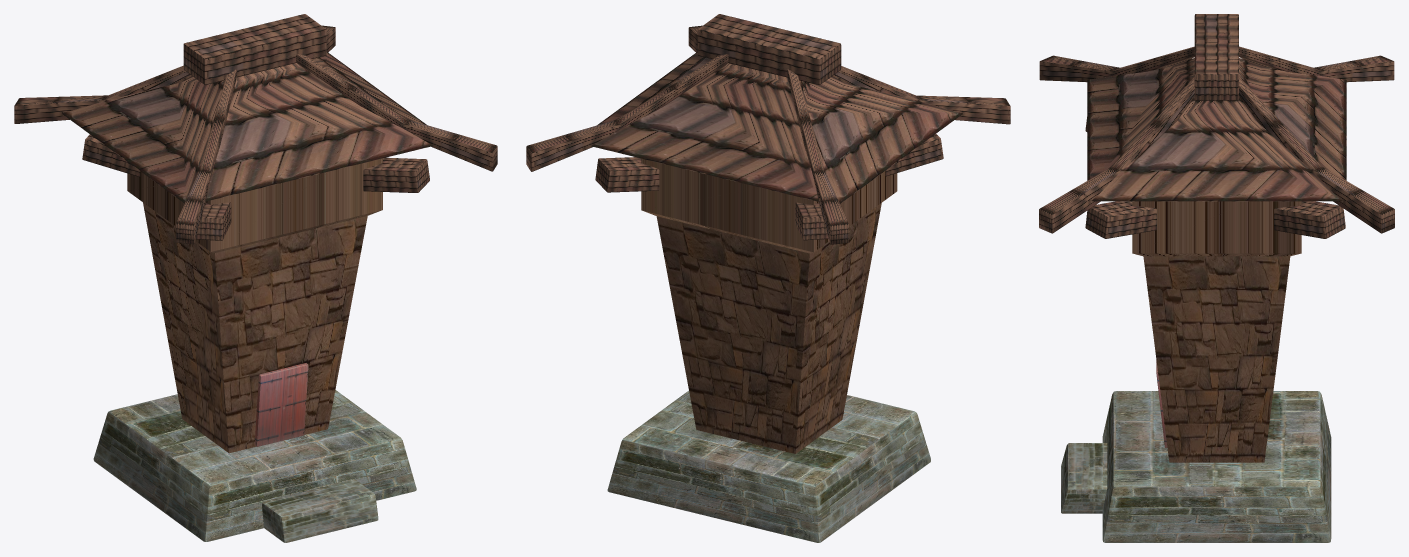
The model's file is towerhouse.fbx.
3 views of the same model, side by side, from view 1: azimuth 30°, elevation 25°; view 2: azimuth 150°, elevation 25°; view 3: azimuth 270°, elevation 25° (orthographic).
Visible parts, largest first — view 1: Box003, Box004, Box001, Box010, Box002, Box013, Box018, Box012, Box007, Box014, Box016, Box017; view 2: Box003, Box004, Box001, Box010, Box011, Box007, Box012, Box015, Box016, Box017; view 3: Box003, Box004, Box001, Box010, Box011, Box013, Box002, Box007, Box012, Box015, Box014.
Part boxes in pixels (x1=…): Box003: x1=127, y1=158, x2=382, y2=453; Box004: x1=61, y1=52, x2=432, y2=203; Box001: x1=93, y1=390, x2=416, y2=541; Box010: x1=183, y1=14, x2=326, y2=84; Box002: x1=262, y1=479, x2=378, y2=542; Box013: x1=296, y1=54, x2=497, y2=171; Box018: x1=254, y1=363, x2=308, y2=446; Box012: x1=176, y1=69, x2=236, y2=244; Box007: x1=14, y1=65, x2=192, y2=123; Box014: x1=363, y1=157, x2=429, y2=192; Box016: x1=196, y1=202, x2=231, y2=240; Box017: x1=82, y1=134, x2=140, y2=176; Box003: x1=641, y1=158, x2=897, y2=453; Box004: x1=591, y1=52, x2=962, y2=203; Box001: x1=607, y1=390, x2=930, y2=542; Box010: x1=697, y1=14, x2=841, y2=84; Box011: x1=526, y1=54, x2=728, y2=171; Box007: x1=787, y1=69, x2=848, y2=244; Box012: x1=832, y1=66, x2=1010, y2=124; Box015: x1=595, y1=157, x2=659, y2=192; Box016: x1=885, y1=134, x2=943, y2=176; Box017: x1=795, y1=202, x2=828, y2=240; Box003: x1=1132, y1=201, x2=1301, y2=462; Box004: x1=1087, y1=58, x2=1346, y2=201; Box001: x1=1102, y1=391, x2=1331, y2=542; Box010: x1=1194, y1=14, x2=1238, y2=100; Box011: x1=1239, y1=77, x2=1394, y2=233; Box013: x1=1039, y1=77, x2=1194, y2=233; Box002: x1=1061, y1=443, x2=1107, y2=513; Box007: x1=1239, y1=46, x2=1394, y2=82; Box012: x1=1039, y1=46, x2=1194, y2=82; Box015: x1=1274, y1=201, x2=1345, y2=238; Box014: x1=1085, y1=201, x2=1156, y2=238.
Size of the model in its own units: 57.64 by 75.53 by 54.43.
4 materials, 4 textured.
